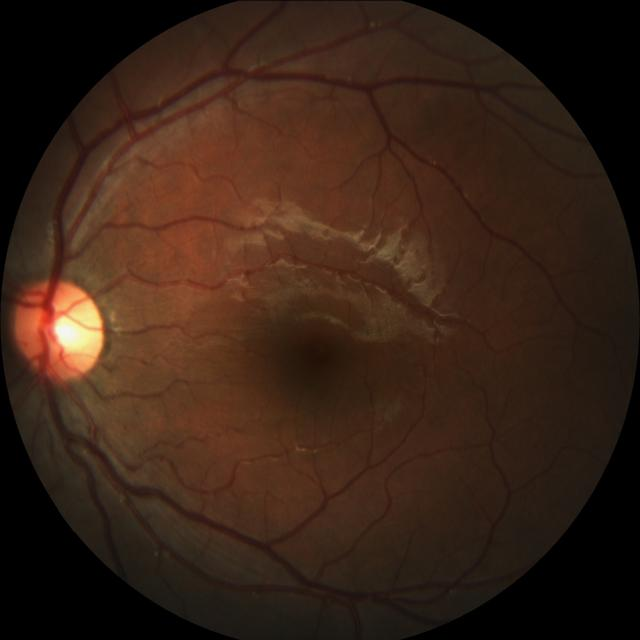OC: (40, 300, 86, 353)
OD: (15, 278, 107, 378)
